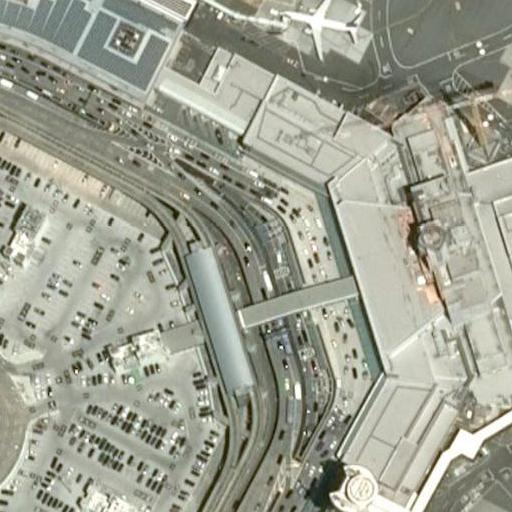Aircraft: (281, 0, 365, 60)
